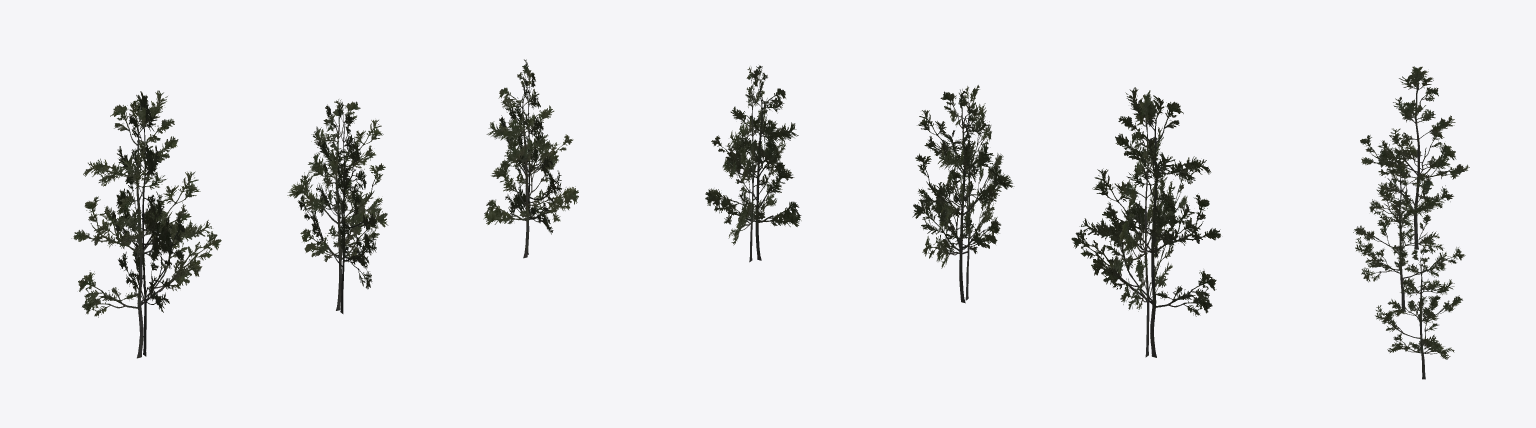
The model's file is pine_sapling_small.glb.
3 renders of one model, left to right at view 1: azimuth 30°, elevation 25°; view 2: azimuth 150°, elevation 25°; view 3: azimuth 270°, elevation 25°, orthographic. The views are drawn at different scales.
Parts seen in each view (by area): view 1: pine_sapling_small_a, pine_sapling_small_b, pine_sapling_small_c; view 2: pine_sapling_small_a, pine_sapling_small_b, pine_sapling_small_c; view 3: pine_sapling_small_a, pine_sapling_small_b, pine_sapling_small_c.
Boxes of the visible parts, left/top/right/bottom form: pine_sapling_small_a: left=71, top=90, right=221, bottom=358; pine_sapling_small_b: left=287, top=99, right=388, bottom=313; pine_sapling_small_c: left=483, top=59, right=578, bottom=258; pine_sapling_small_a: left=1071, top=87, right=1220, bottom=357; pine_sapling_small_b: left=912, top=85, right=1014, bottom=303; pine_sapling_small_c: left=705, top=65, right=801, bottom=262; pine_sapling_small_a: left=1360, top=66, right=1469, bottom=249; pine_sapling_small_b: left=1353, top=163, right=1465, bottom=310; pine_sapling_small_c: left=1375, top=243, right=1462, bottom=379.
Size of the model in its own units: 3.17 by 1.35 by 1.35.
Materials: 6 (6 with a texture image).
